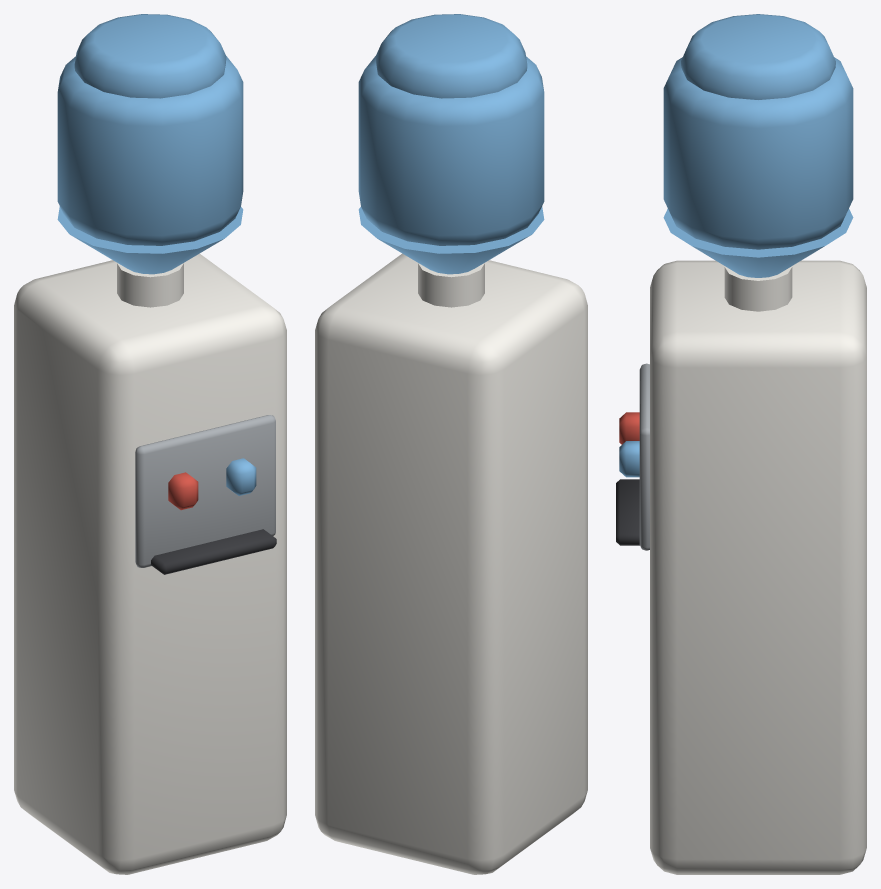
File: water_cooler.glb
The picture shows the model from 3 angles, left to right: view 1: azimuth 30°, elevation 25°; view 2: azimuth 150°, elevation 25°; view 3: azimuth 270°, elevation 25°; orthographic projection.
Visible parts, largest first — view 1: water_cooler; view 2: water_cooler; view 3: water_cooler.
Part boxes in pixels (left/top/right/bottom): water_cooler: left=14, top=14, right=286, bottom=874; water_cooler: left=315, top=14, right=587, bottom=874; water_cooler: left=616, top=14, right=866, bottom=874.
Bounding box in the file's own units: 0.32 × 1.3 × 0.37.
1 material, 1 textured.
